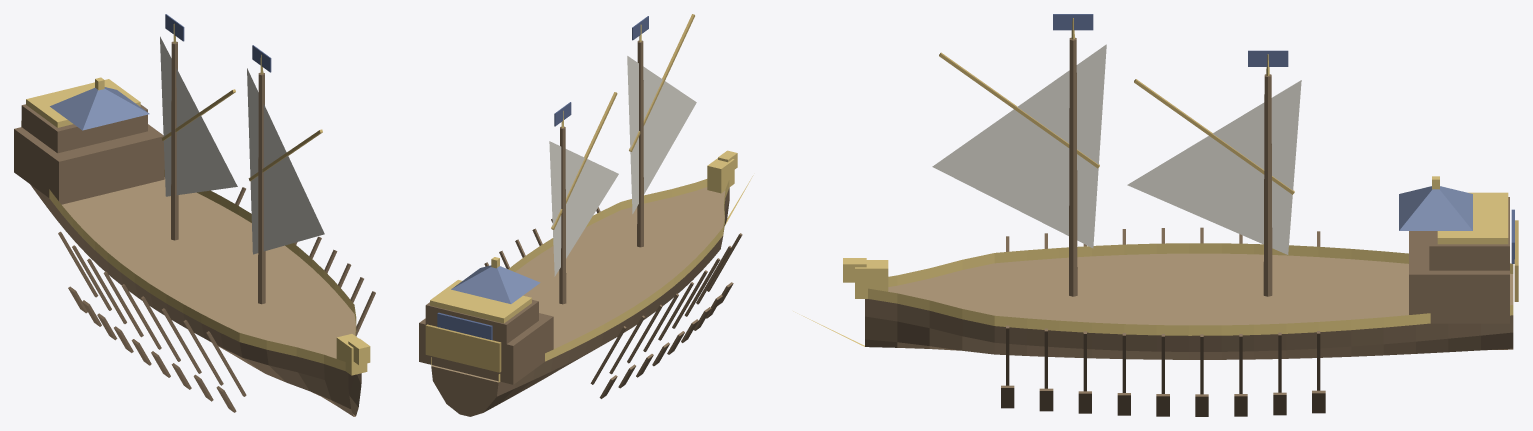
The model's file is LaReal.fbx.
3 renders of one model, left to right at view 1: azimuth 30°, elevation 25°; view 2: azimuth 150°, elevation 25°; view 3: azimuth 270°, elevation 25°, orthographic. The views are drawn at different scales.
Visible parts, largest first — view 1: LaReal, Oar_R_8, Oar_R_3, Oar_R_7, Oar_R_2, Oar_R_4, Oar_R_6, Oar_R_5, Oar_R_1, Oar_R_0; view 2: LaReal, Oar_R_0, Oar_R_1, Oar_R_3, Oar_R_5, Oar_R_2, Oar_R_4, Oar_R_6, Oar_R_7, Oar_R_8; view 3: LaReal.
Part boxes in pixels (x1,y1,x2,y2): LaReal: (14,14,370,416); Oar_R_8: (206,331,246,412); Oar_R_3: (103,271,143,352); Oar_R_7: (183,320,223,401); Oar_R_2: (87,258,126,340); Oar_R_4: (121,284,161,365); Oar_R_6: (162,308,201,389); Oar_R_5: (141,296,180,377); Oar_R_1: (72,245,111,326); Oar_R_0: (58,231,98,313); LaReal: (419,14,753,416); Oar_R_0: (590,326,626,398); Oar_R_1: (609,315,644,388); Oar_R_3: (643,293,678,366); Oar_R_5: (672,270,707,342); Oar_R_2: (627,304,662,377); Oar_R_4: (658,282,693,354); Oar_R_6: (684,258,720,330); Oar_R_7: (696,246,731,318); Oar_R_8: (707,233,742,305); LaReal: (793,14,1518,359).
Bounding box in the file's own units: 7.7 × 11.87 × 21.86.
